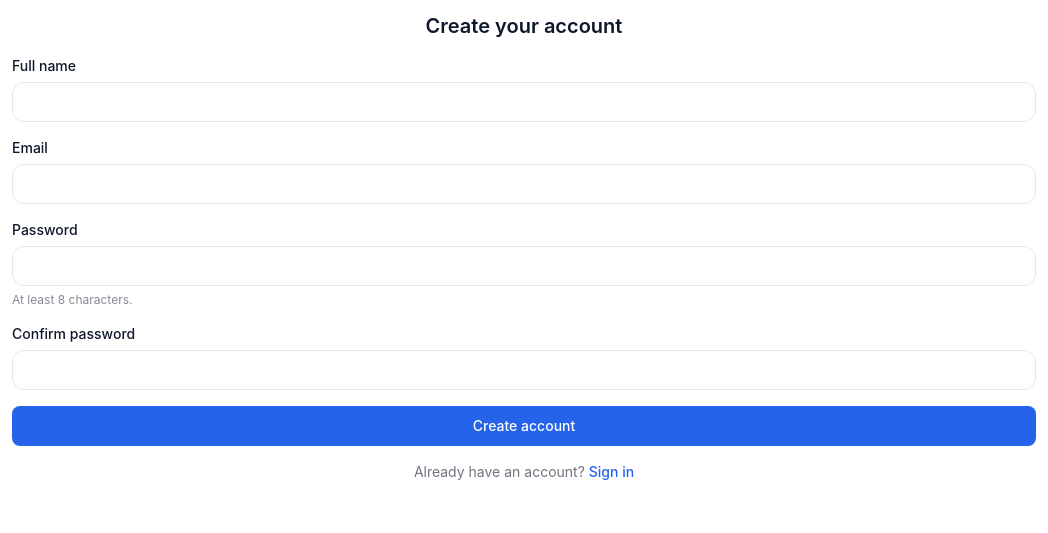
it: RegisterPage (integration) › shows a client-side error when the passwords do not match
Type "Jane Doe" into the field labelled "Full name" at (524, 102), box [12,82,1036,122]
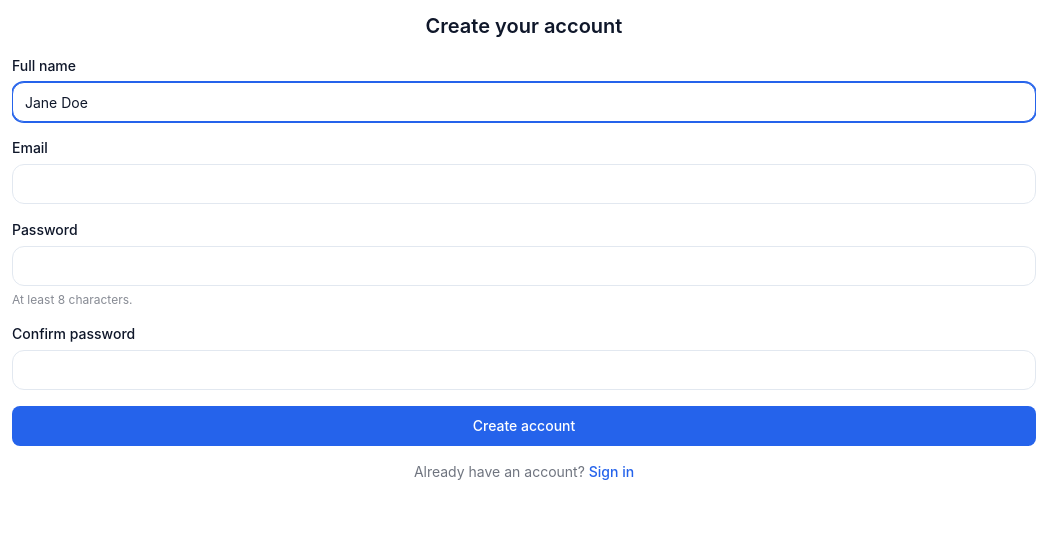
Type "jane@example.com" into the field labelled "Email" at (524, 184), box [12,164,1036,204]
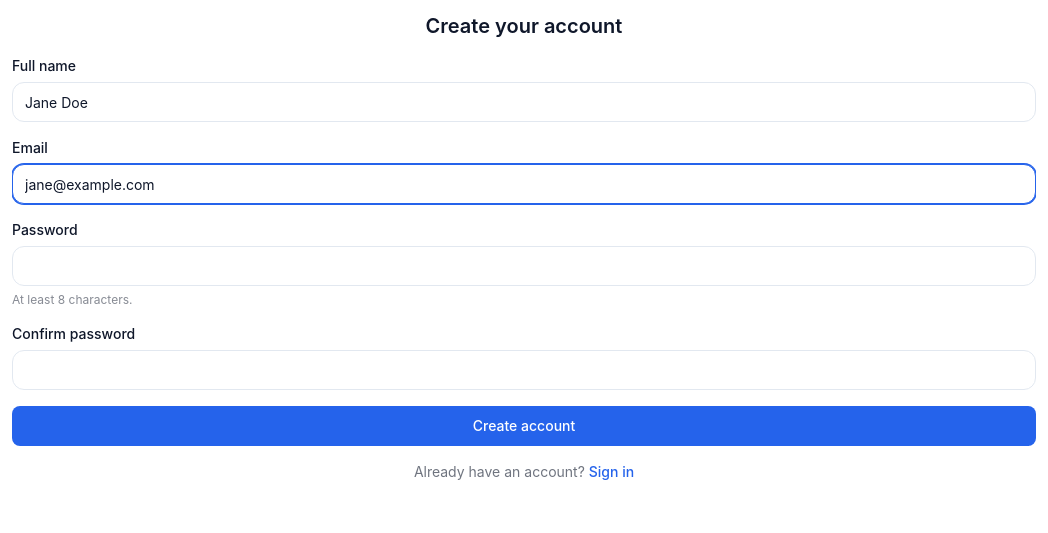
Type "Password123!" into the password field labelled "Password" at (524, 266), box [12,246,1036,286]
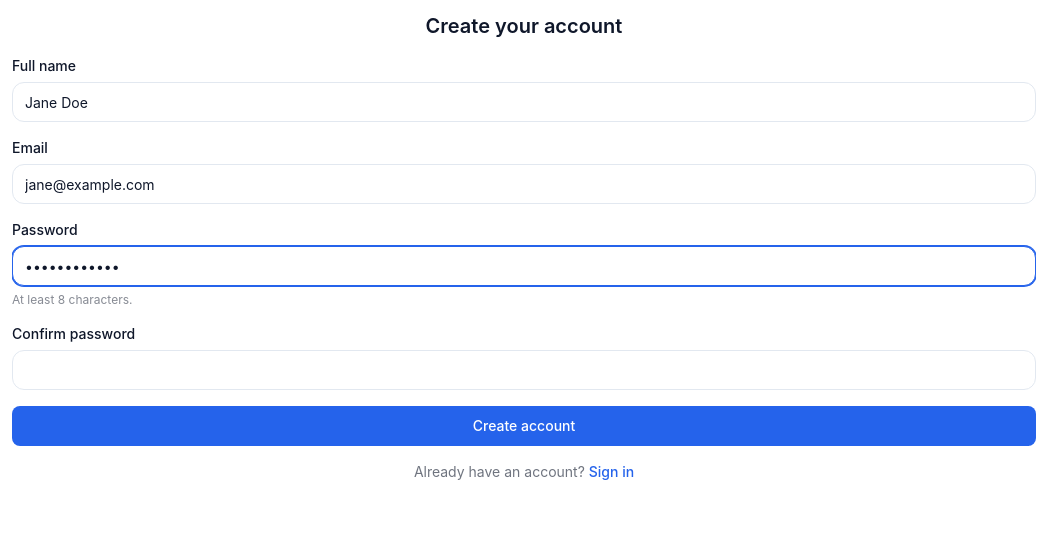
Type "Different123!" into the password field labelled "Confirm password" at (524, 370), box [12,350,1036,390]
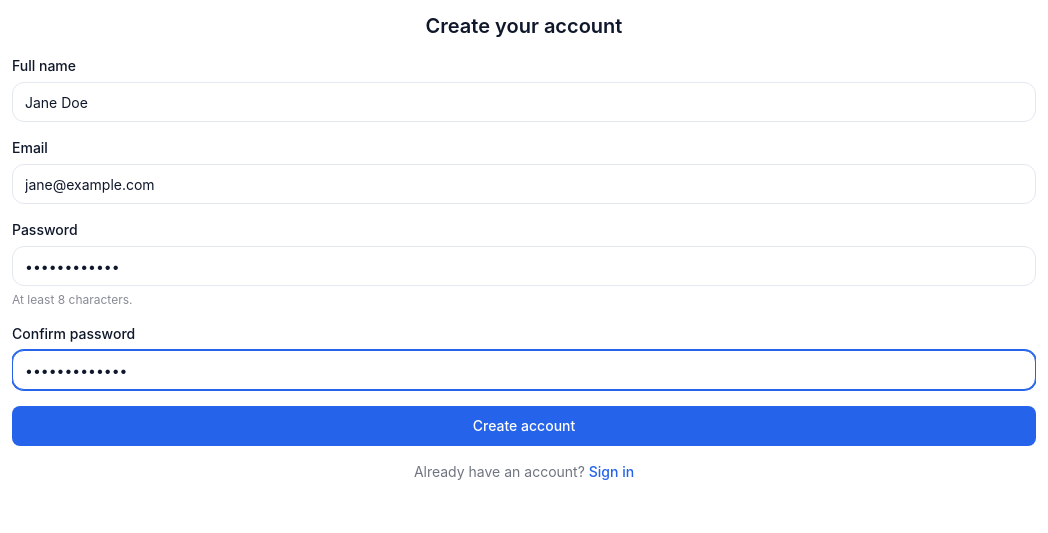
Click the button "Create account" at (524, 426), box [12,406,1036,446]
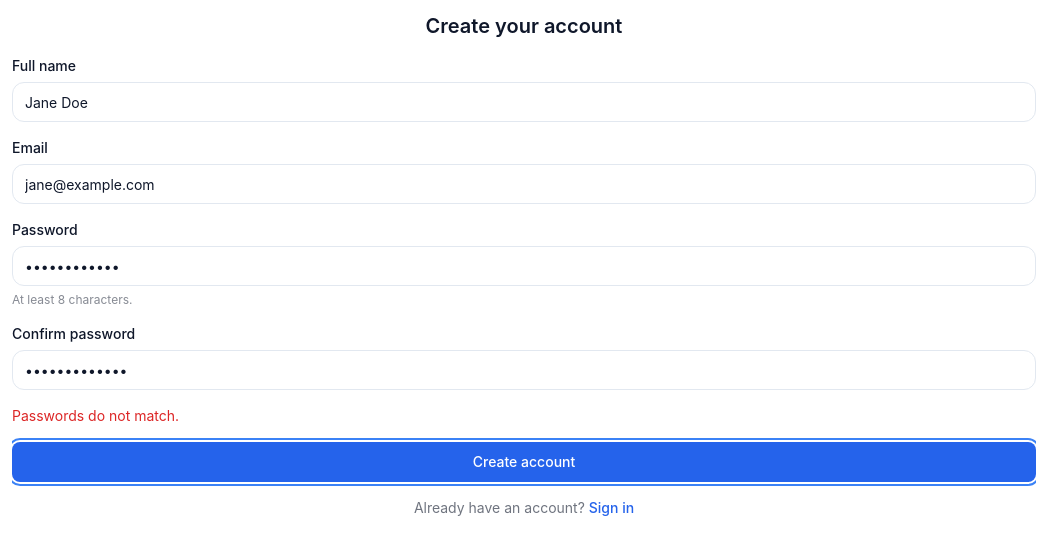
Check: the text "Passwords do not match." is shown, box [12,407,179,424]
